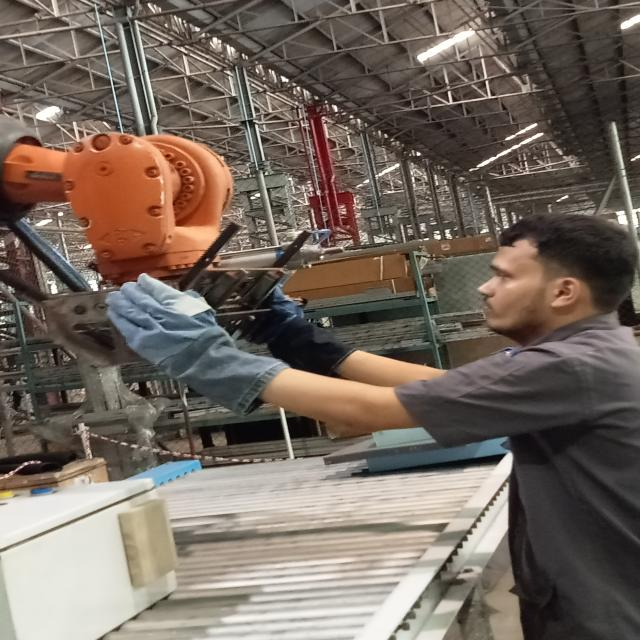Gloves-Detection: (98, 278, 276, 418), (257, 291, 340, 366)
